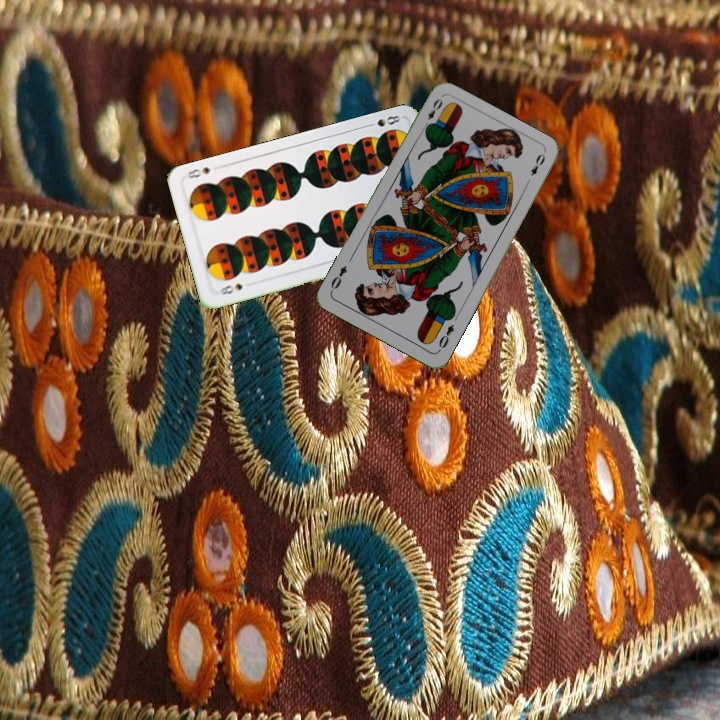EO: (419, 94, 445, 131), (434, 320, 457, 354)
S8: (363, 109, 403, 130), (217, 279, 245, 297)
